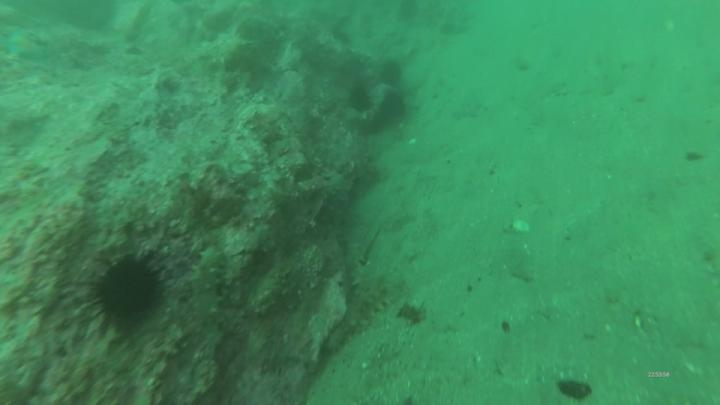echinus: (96, 263, 162, 329), (381, 90, 409, 122), (378, 59, 405, 87), (348, 85, 372, 114)
holothurian: (347, 263, 393, 342), (191, 246, 225, 330)
